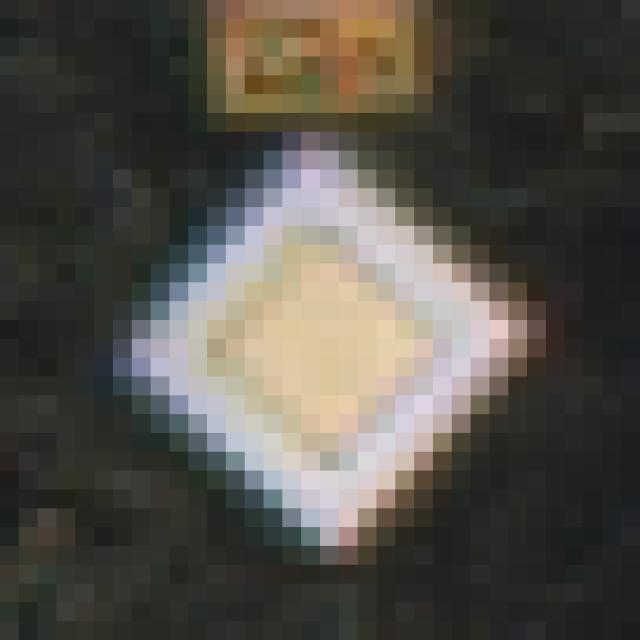Main Road: (95, 95, 547, 547)
